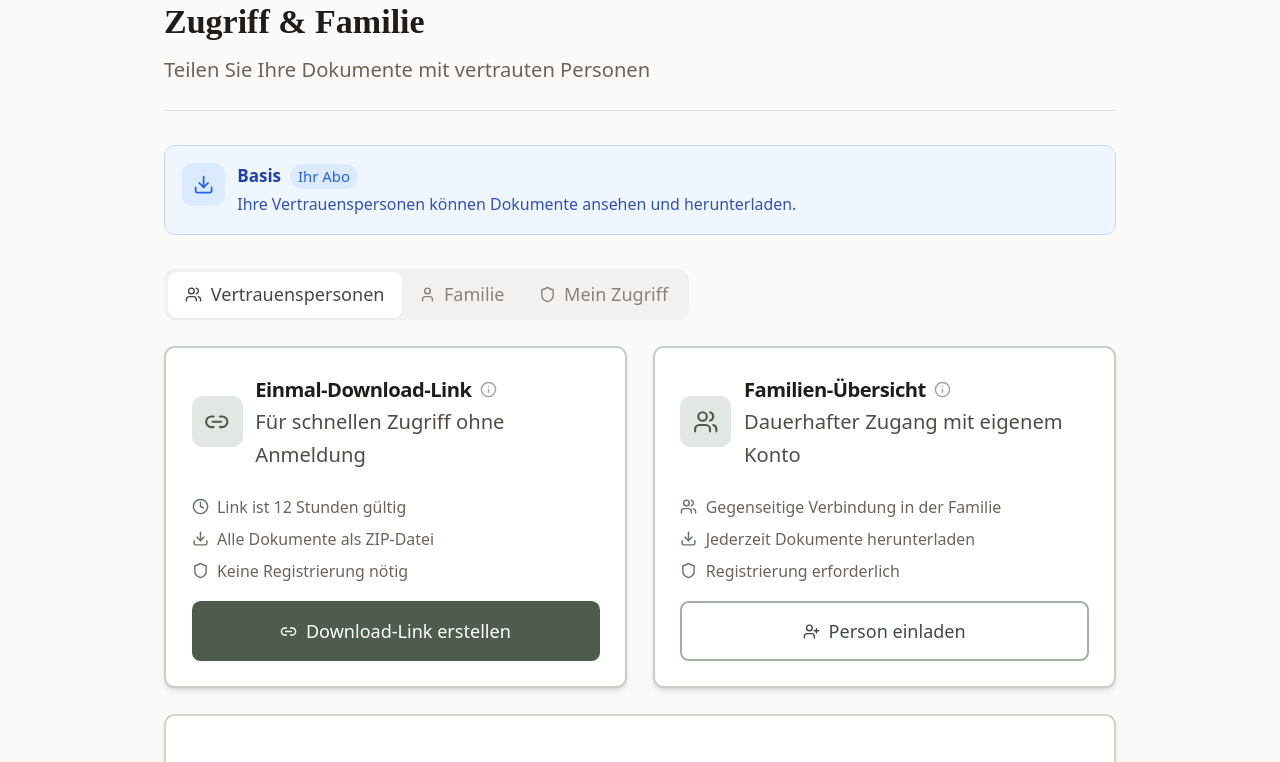
Test: ZugriffPage Familie Tab Full Integration › Tier-Based UI Display in Familie Tab › should display document counts for family members
Check: the heading "Zugriff & Familie" is shown, box x1=164 y1=3 x2=425 y2=40
Click the tab "Familie" at (462, 295), box x1=402 y1=272 x2=522 y2=318
(page scrolled)
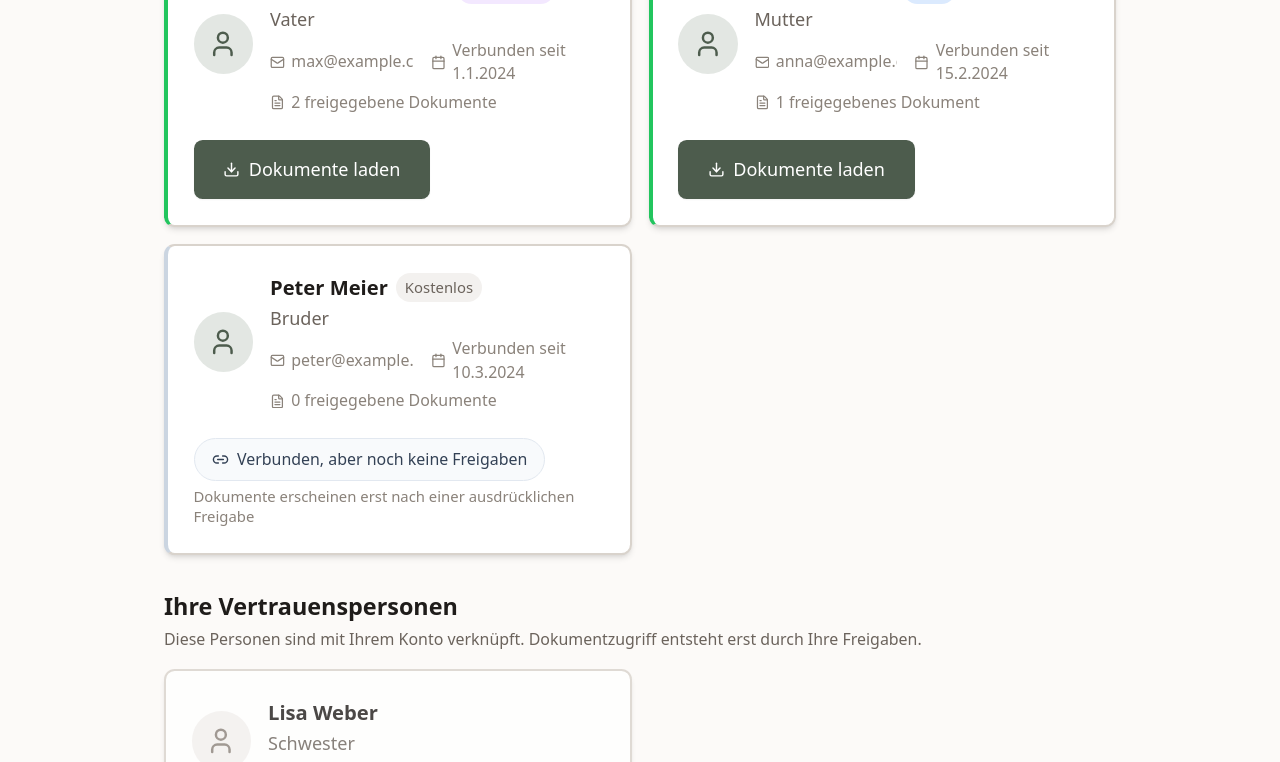
Check: the text "2 freigegebene Dokumente" is shown, box x1=270 y1=91 x2=497 y2=113
Check: the text "1 freigegebenes Dokument" is shown, box x1=754 y1=91 x2=980 y2=113
Check: the text "0 freigegebene Dokumente" is shown, box x1=270 y1=389 x2=497 y2=411
